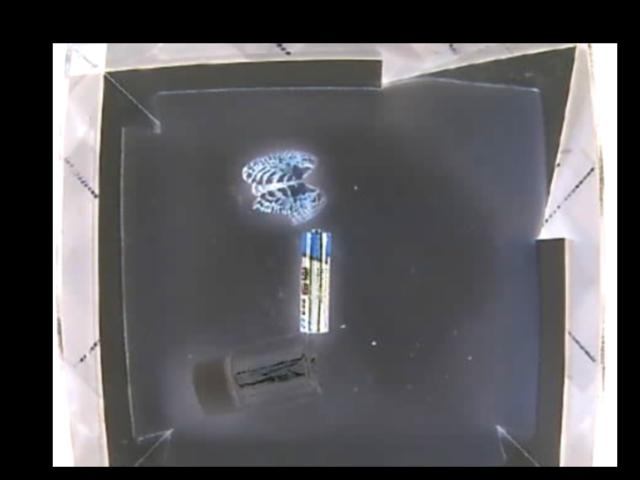Battery: (301, 230, 333, 331)
Bottle: (188, 338, 321, 417)
Shell: (238, 150, 324, 223)
